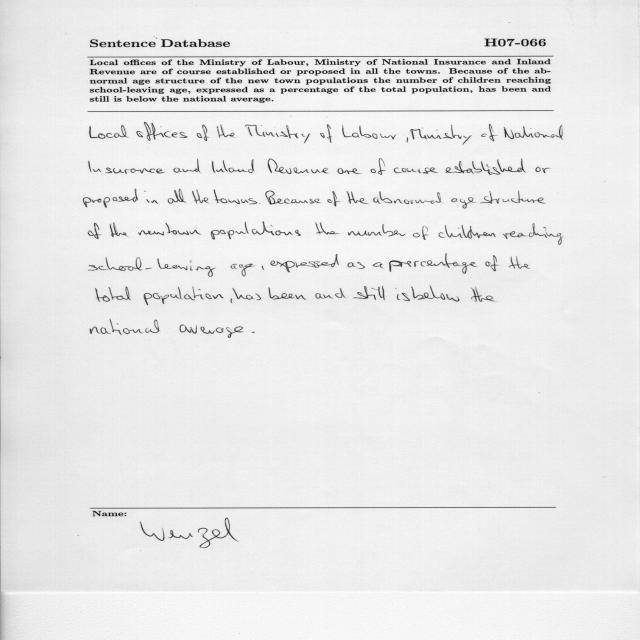word: (89, 257, 216, 277), (389, 253, 477, 274), (211, 222, 301, 240), (144, 287, 224, 306), (445, 158, 526, 175), (503, 223, 564, 245), (270, 254, 339, 272), (410, 125, 471, 145), (245, 125, 310, 143), (90, 319, 160, 335), (84, 189, 139, 208), (89, 161, 165, 174), (137, 122, 188, 141), (268, 158, 328, 174), (373, 191, 442, 204), (180, 324, 244, 338), (504, 125, 563, 140), (480, 191, 546, 204), (265, 191, 321, 205), (412, 286, 460, 302), (342, 126, 396, 140), (439, 225, 496, 238), (348, 224, 406, 236), (214, 190, 257, 205), (212, 159, 254, 173), (95, 286, 131, 302), (90, 125, 128, 139), (269, 287, 306, 300), (354, 286, 385, 300), (166, 223, 201, 235), (174, 159, 201, 173), (471, 287, 495, 302), (232, 288, 261, 300), (315, 288, 346, 299), (315, 222, 339, 235), (451, 197, 476, 209), (231, 264, 254, 277), (347, 191, 369, 204), (509, 256, 530, 269), (481, 124, 497, 141), (168, 189, 186, 204), (110, 222, 128, 237), (394, 168, 438, 174), (371, 158, 386, 175), (192, 189, 209, 204), (217, 124, 235, 138), (485, 255, 499, 272), (320, 124, 332, 143), (413, 226, 428, 240), (328, 191, 341, 207), (88, 223, 101, 239), (395, 288, 410, 301), (197, 125, 209, 141), (145, 191, 159, 204), (338, 168, 362, 174), (138, 231, 164, 236), (348, 262, 365, 269), (536, 167, 550, 173), (373, 262, 384, 268), (231, 298, 233, 303), (262, 266, 264, 270), (407, 138, 408, 143), (252, 332, 255, 333), (259, 203, 261, 204)
